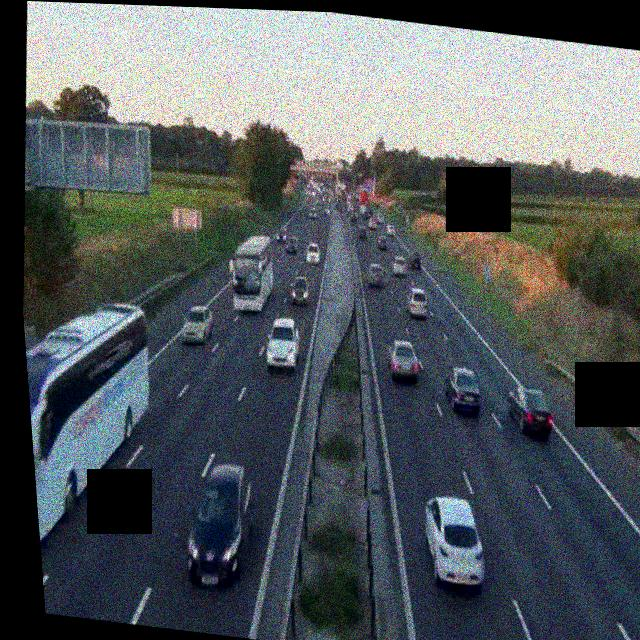bus: (22, 291, 168, 564)
car: (179, 458, 265, 592), (418, 492, 491, 590), (504, 384, 557, 439), (441, 363, 485, 416), (263, 318, 303, 371), (385, 337, 421, 382), (179, 303, 215, 346), (405, 286, 432, 319), (289, 274, 312, 306), (365, 262, 385, 290), (303, 241, 321, 265), (390, 258, 408, 279), (284, 234, 299, 254), (409, 252, 423, 269), (376, 233, 388, 251), (276, 228, 289, 243), (357, 225, 369, 241), (376, 217, 387, 230), (310, 207, 319, 219)
truck: (225, 231, 278, 314)
